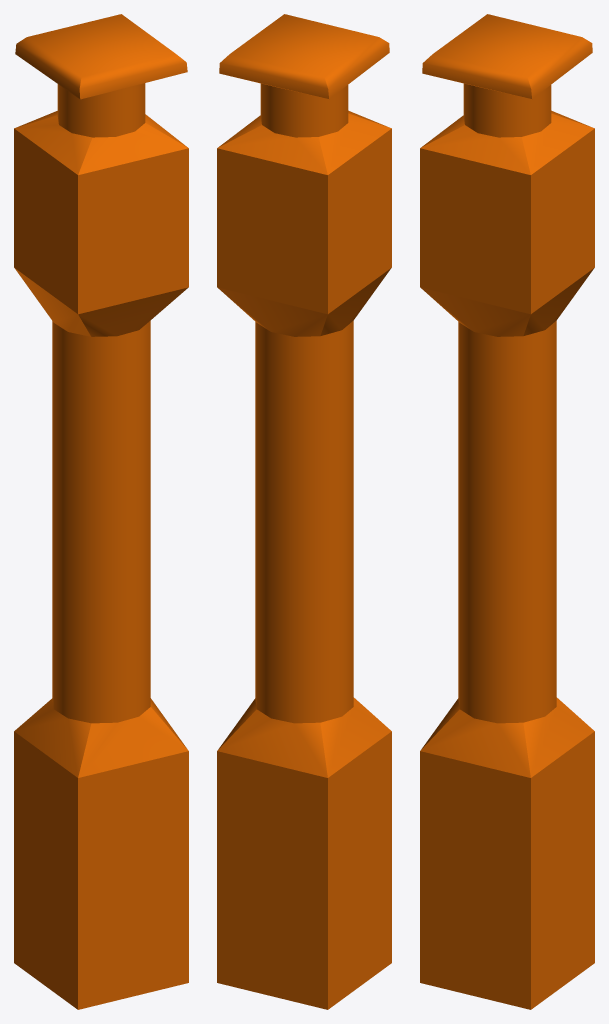
The model's file is RailingPillar.fbx.
3 renders of one model, left to right at view 1: azimuth 30°, elevation 25°; view 2: azimuth 150°, elevation 25°; view 3: azimuth 330°, elevation 25°, orthographic.
Parts seen in each view (by area): view 1: RaillingPillar; view 2: RaillingPillar; view 3: RaillingPillar.
Boxes of the visible parts, <box> form: RaillingPillar: <box>14,14,188,1009</box>; RaillingPillar: <box>217,14,391,1009</box>; RaillingPillar: <box>420,14,594,1009</box>.
Size of the model in its own units: 15.01 by 120 by 15.01.
